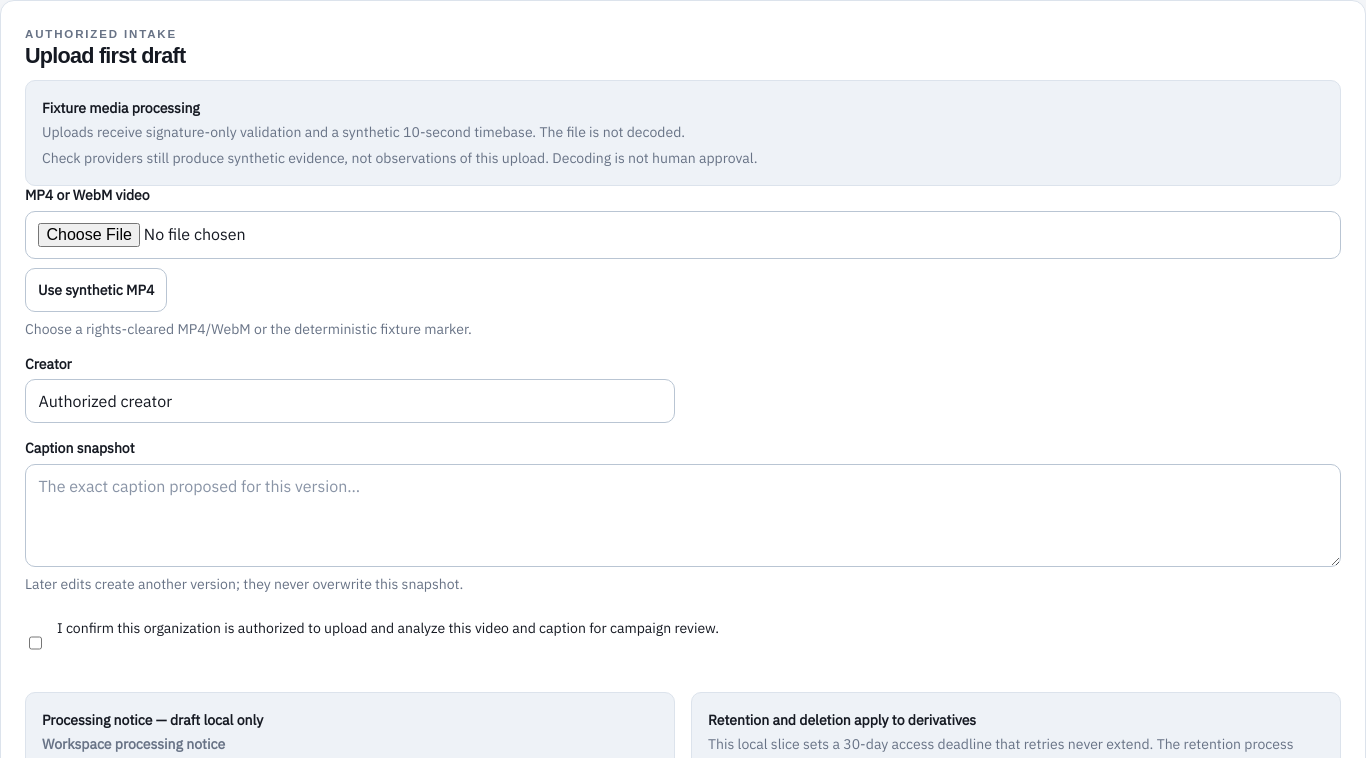
Test: media-aware authorized uploader › enables the synthetic marker only in explicitly confirmed fixture media mode
This screenshot has width=1366, height=758.
Check: the text "Fixture media processing" is shown, box [42,99,200,117]
Click the button "Use synthetic MP4". click: (96, 290)
box: [25,268,167,312]
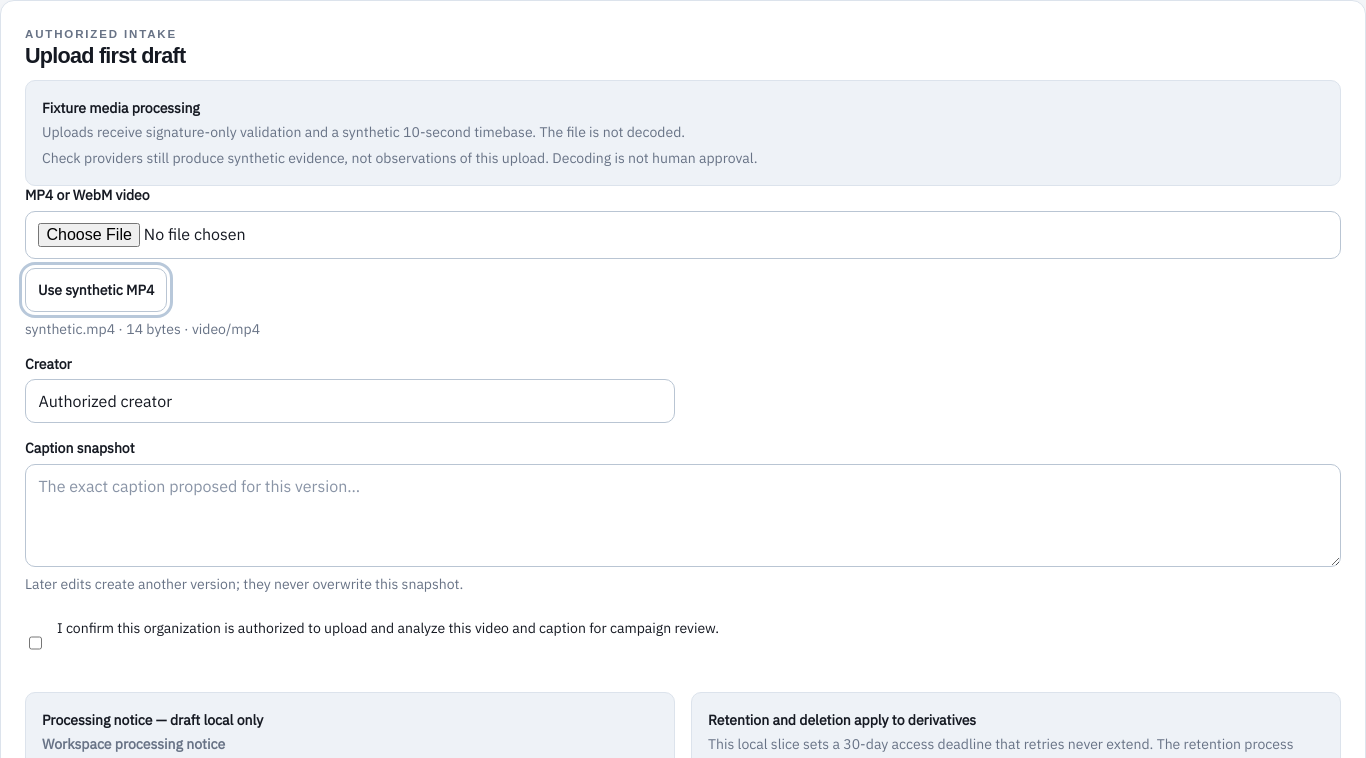
Check: the text "not observations of this upload" is shown, box [42,149,758,167]
Check: the text "synthetic.mp4 · 14 bytes · video/mp4" is shown, box [25,320,260,338]
